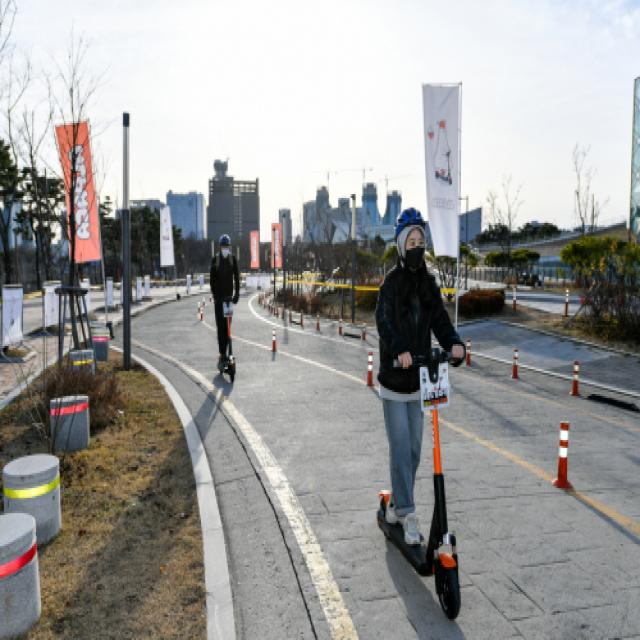helmet: (360, 202, 471, 640), (204, 230, 246, 385)
